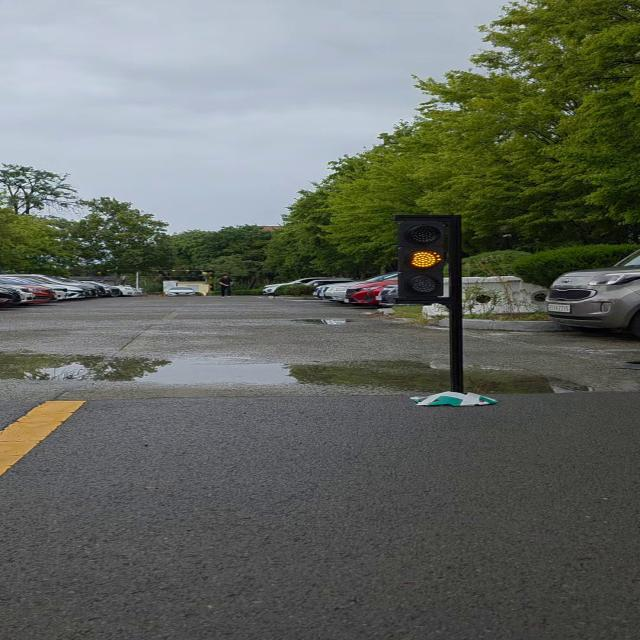yellow: (390, 211, 468, 307)
